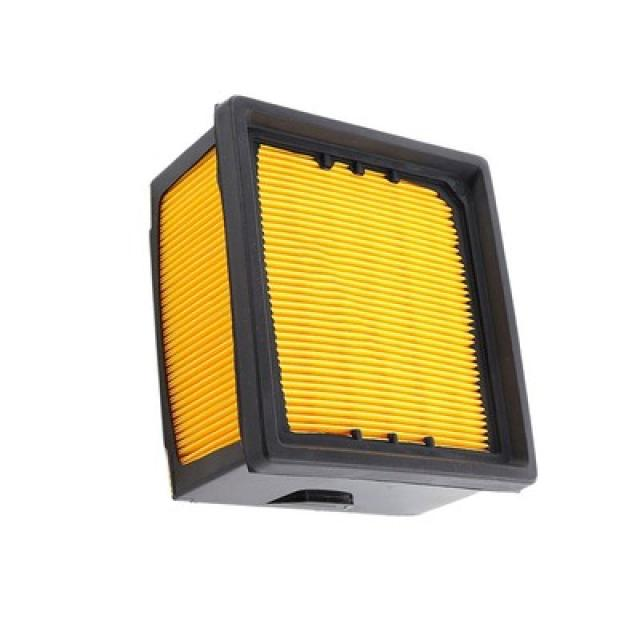air_filter: (152, 93, 548, 512)
